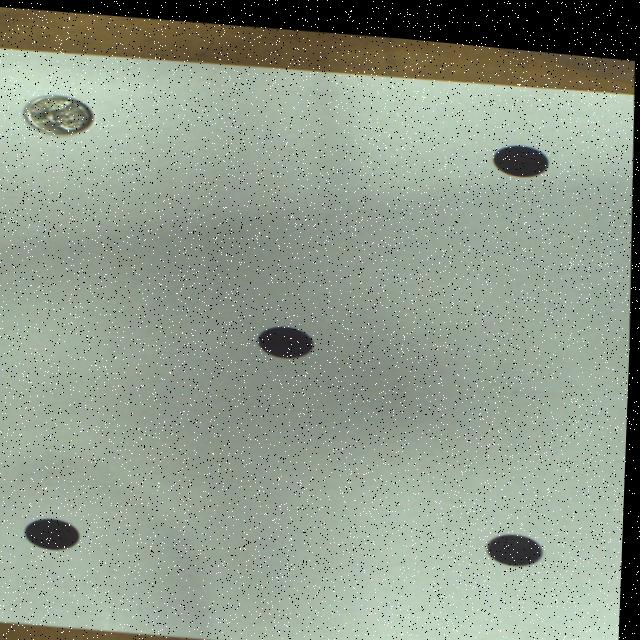head1bath: (26, 93, 92, 132)
space: (489, 522, 546, 554), (259, 319, 316, 351), (494, 133, 549, 165), (28, 516, 83, 547)
